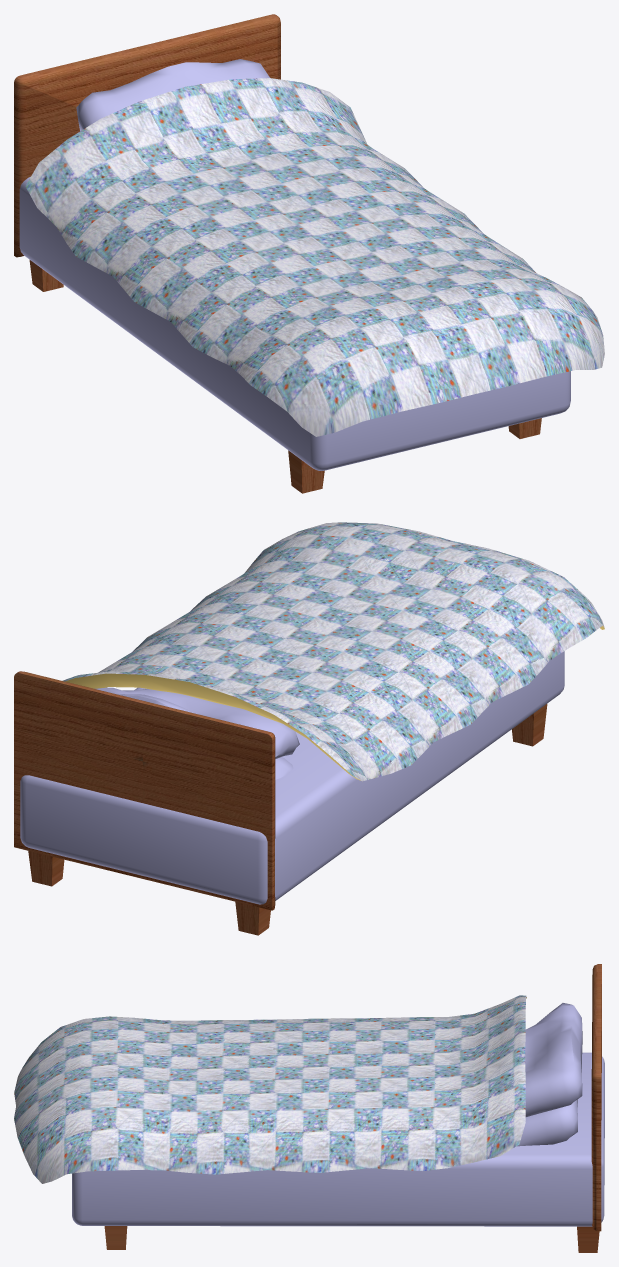
The picture shows the model from 3 angles, top to bottom: view 1: azimuth 30°, elevation 25°; view 2: azimuth 150°, elevation 25°; view 3: azimuth 270°, elevation 25°; orthographic projection. The views are drawn at different scales.
Parts seen in each view (by area): view 1: Mesh7_bed_dxf1_Model, Mesh8_bed_dxf1_Model, Mesh5_bed_dxf1_Model, Mesh6_bed_dxf1_Model, Mesh4_bed_dxf1_Model; view 2: Mesh7_bed_dxf1_Model, Mesh8_bed_dxf1_Model, Mesh5_bed_dxf1_Model, Mesh6_bed_dxf1_Model, Mesh2_bed_dxf1_Model, Mesh4_bed_dxf1_Model, Mesh1_bed_dxf1_Model; view 3: Mesh7_bed_dxf1_Model, Mesh8_bed_dxf1_Model, Mesh6_bed_dxf1_Model, Mesh5_bed_dxf1_Model, Mesh9_bed_dxf1_Model, Mesh2_bed_dxf1_Model, Mesh3_bed_dxf1_Model.
Part boxes in pixels (<box>): Mesh7_bed_dxf1_Model: <box>25,78,604,436</box>; Mesh8_bed_dxf1_Model: <box>19,176,570,470</box>; Mesh5_bed_dxf1_Model: <box>14,14,280,257</box>; Mesh6_bed_dxf1_Model: <box>76,59,269,130</box>; Mesh4_bed_dxf1_Model: <box>288,450,324,493</box>; Mesh7_bed_dxf1_Model: <box>62,522,604,781</box>; Mesh8_bed_dxf1_Model: <box>20,651,564,904</box>; Mesh5_bed_dxf1_Model: <box>14,671,275,910</box>; Mesh6_bed_dxf1_Model: <box>95,687,299,758</box>; Mesh2_bed_dxf1_Model: <box>28,851,64,886</box>; Mesh4_bed_dxf1_Model: <box>512,704,547,746</box>; Mesh1_bed_dxf1_Model: <box>235,901,270,935</box>; Mesh7_bed_dxf1_Model: <box>14,995,526,1183</box>; Mesh8_bed_dxf1_Model: <box>72,1052,604,1226</box>; Mesh6_bed_dxf1_Model: <box>525,1003,582,1116</box>; Mesh5_bed_dxf1_Model: <box>591,964,601,1231</box>; Mesh9_bed_dxf1_Model: <box>517,1099,577,1146</box>; Mesh2_bed_dxf1_Model: <box>577,1226,599,1252</box>; Mesh3_bed_dxf1_Model: <box>104,1226,127,1249</box>.
Bounding box in the file's own units: 19.72 × 11.88 × 34.32.
4 materials, 2 textured.
